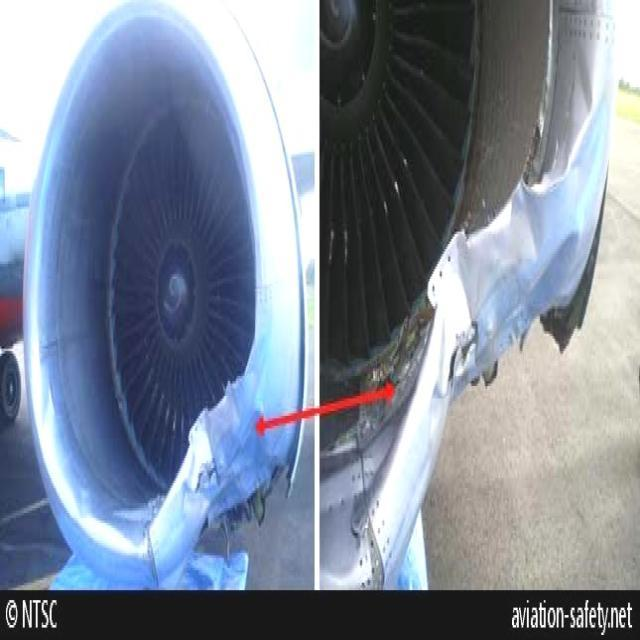dent: (563, 44, 595, 183), (443, 230, 481, 347), (509, 183, 546, 265)
